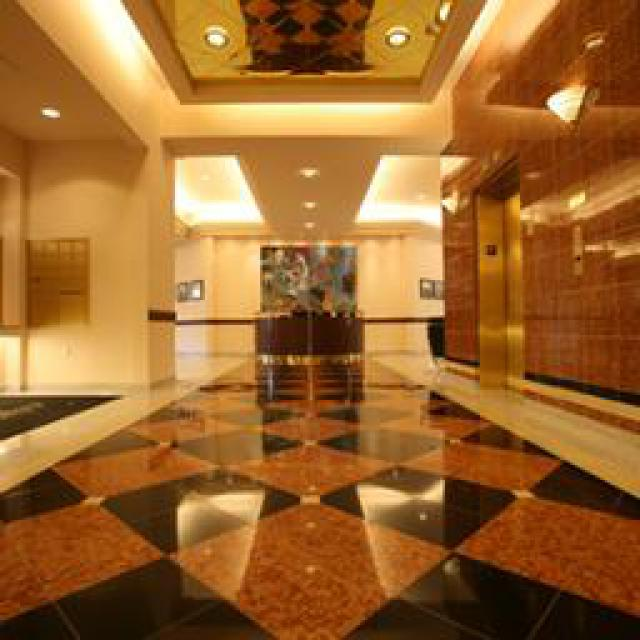ceiling beam: (119, 0, 494, 102), (170, 150, 462, 238)
floor -X: (0, 348, 638, 638)
lamp crop: (542, 80, 582, 130), (200, 22, 228, 45), (385, 28, 405, 48), (295, 162, 315, 178), (38, 108, 55, 118), (300, 198, 315, 208)
wall clock: (12, 0, 440, 385), (435, 0, 638, 432), (0, 131, 142, 385), (170, 222, 440, 352), (472, 152, 520, 392)
